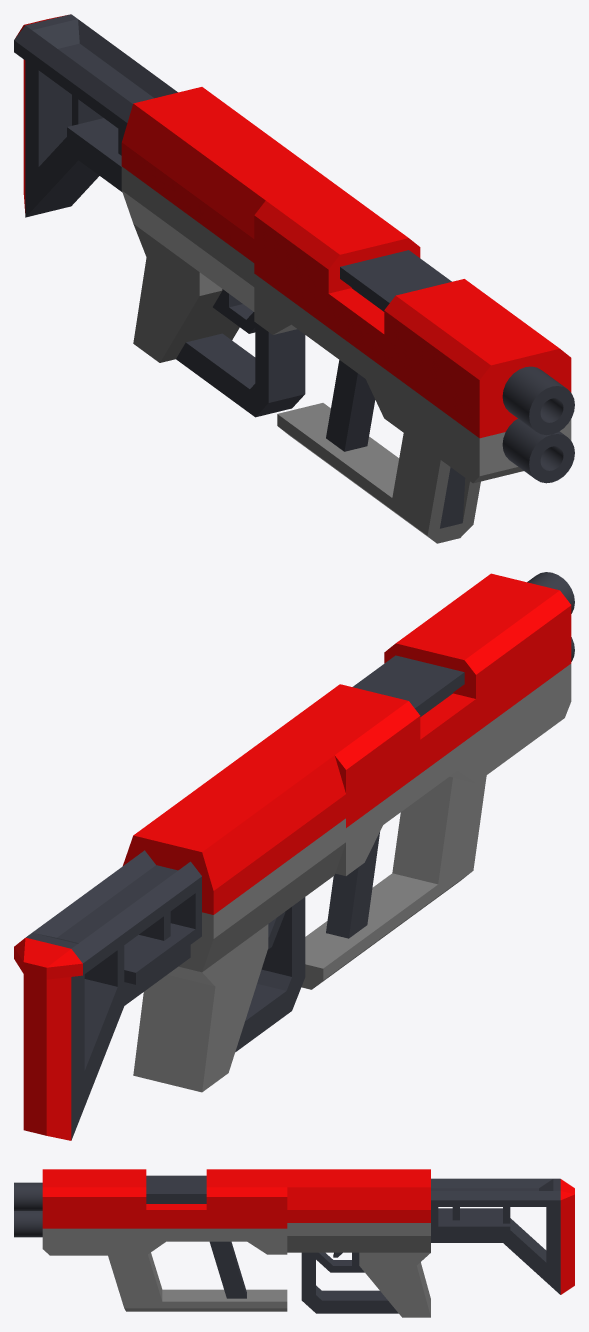
File: TestMachineGun.obj
The picture shows the model from 3 angles, top to bottom: view 1: azimuth 30°, elevation 25°; view 2: azimuth 150°, elevation 25°; view 3: azimuth 270°, elevation 25°; orthographic projection. The views are drawn at different scales.
Parts seen in each view (by area): view 1: mergedBlocks; view 2: mergedBlocks; view 3: mergedBlocks.
Boxes of the visible parts, x1,y1,x2,y2 form: mergedBlocks: (14,14,574,543); mergedBlocks: (14,572,574,1140); mergedBlocks: (14,1169,574,1317).
Size of the model in its own units: 0.4 by 1 by 3.9.
